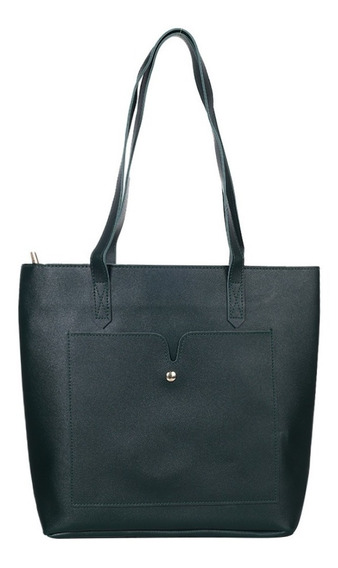cartera: (17, 27, 322, 540)
